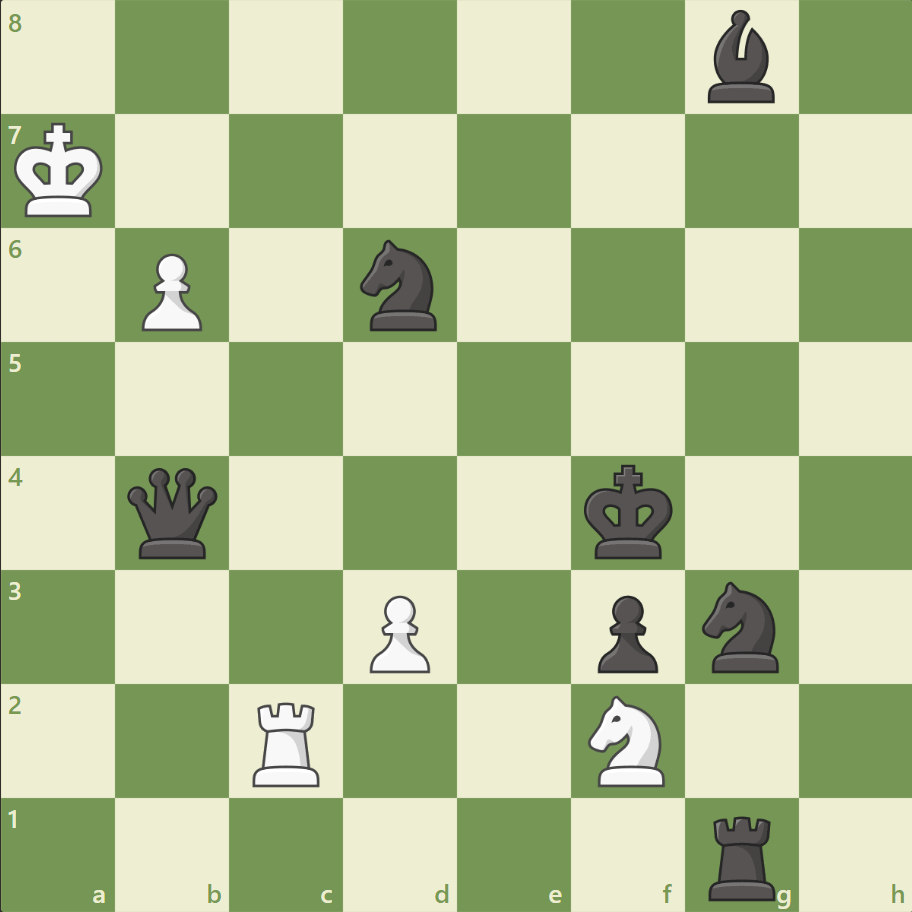K: (11, 117, 111, 225)
N: (579, 688, 676, 791)
P: (133, 246, 208, 337), (361, 586, 435, 677)
R: (246, 693, 329, 790)
b: (698, 6, 782, 109)
k: (579, 458, 679, 566)
n: (351, 234, 449, 337), (692, 575, 789, 677)
p: (588, 586, 662, 677)
q: (124, 463, 223, 562)
r: (700, 806, 783, 904)
